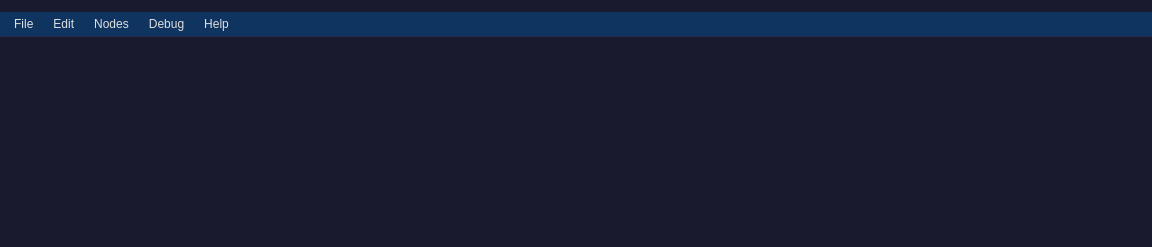
it: MenuBar - File メニュー › File ボタンクリックでドロップダウンが開く
Check: the text "Clear Canvas..." is not shown
Click the button "File": (24, 24) [4,12,43,36]
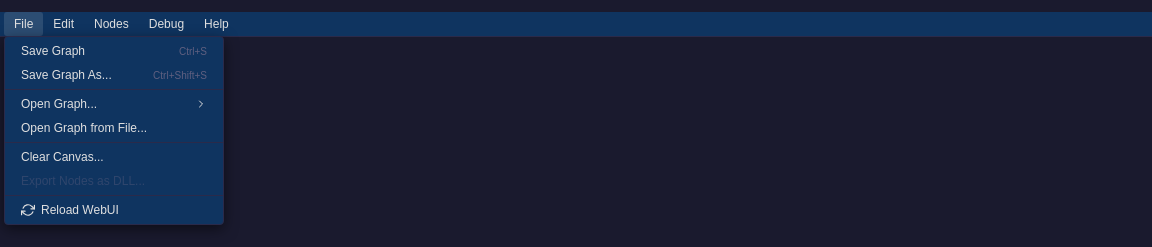
Check: the text "Clear Canvas..." is shown, box [21,150,104,164]
